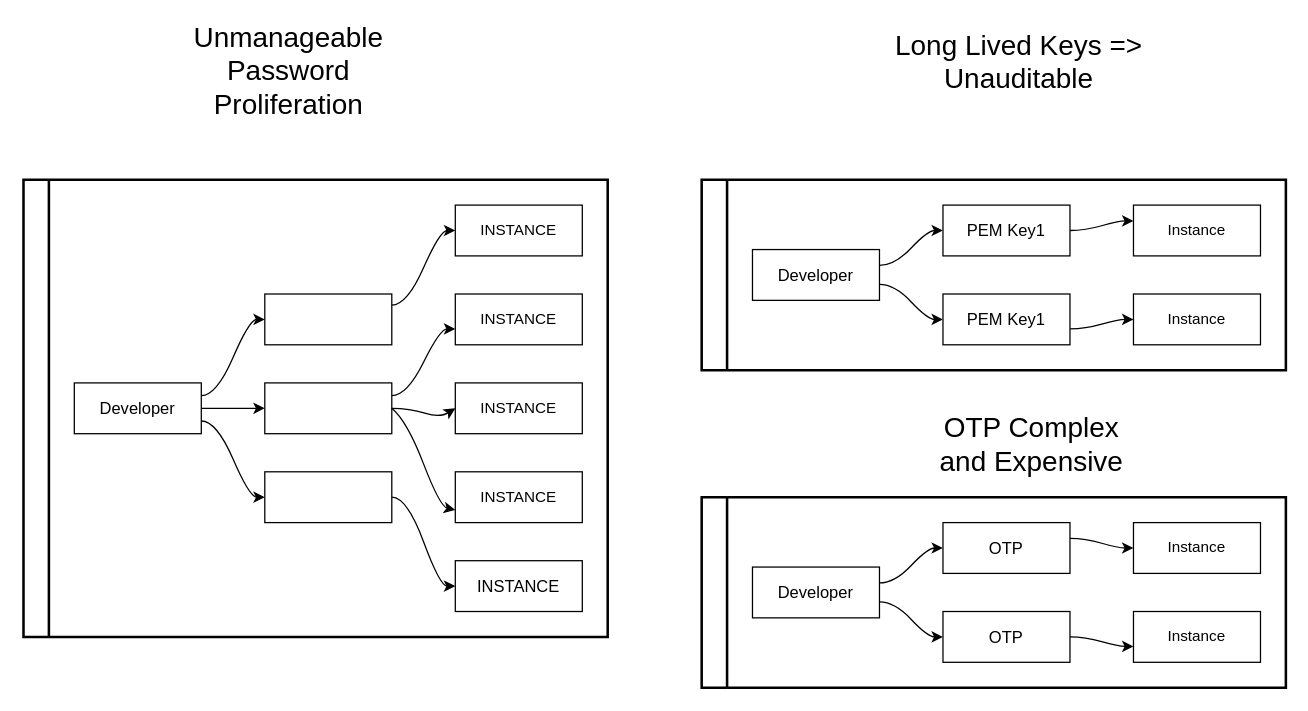
Some shapes in this 1308 by 711 pixel diagram are drawn without their labels. Here are the shapes that lost their labels. From the top down, the centre of each, then its label:
At (x=328, y=319): "PASSWORD1".
At (x=328, y=408): "PASSWORD2".
At (x=328, y=497): "PASSWORD3".
